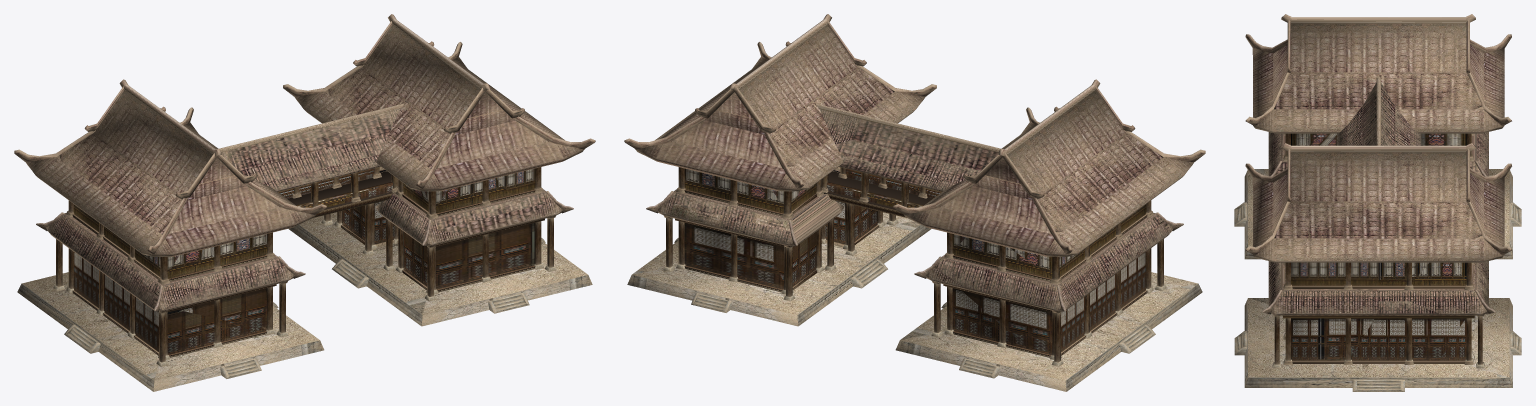
The model's file is desert-009-hotel_lod_01.glb.
The picture shows the model from 3 angles, left to right: view 1: azimuth 30°, elevation 25°; view 2: azimuth 150°, elevation 25°; view 3: azimuth 270°, elevation 25°; orthographic projection.
Parts seen in each view (by area): view 1: desert-009-hotel01, desert-009-hotel02, desert-009-hotel03; view 2: desert-009-hotel01, desert-009-hotel02, desert-009-hotel03; view 3: desert-009-hotel01, desert-009-hotel02, desert-009-hotel03.
Boxes of the visible parts, bbox=[...] form: desert-009-hotel01: bbox=[14, 14, 595, 256]; desert-009-hotel02: bbox=[36, 103, 573, 354]; desert-009-hotel03: bbox=[17, 167, 592, 391]; desert-009-hotel01: bbox=[624, 14, 1205, 256]; desert-009-hotel02: bbox=[646, 103, 1183, 354]; desert-009-hotel03: bbox=[627, 167, 1202, 391]; desert-009-hotel01: bbox=[1245, 14, 1511, 262]; desert-009-hotel02: bbox=[1261, 76, 1495, 360]; desert-009-hotel03: bbox=[1234, 133, 1521, 391].
Bounding box in the file's own units: 35.89 × 15.6 × 19.9.
Materials: 3 (3 with a texture image).
